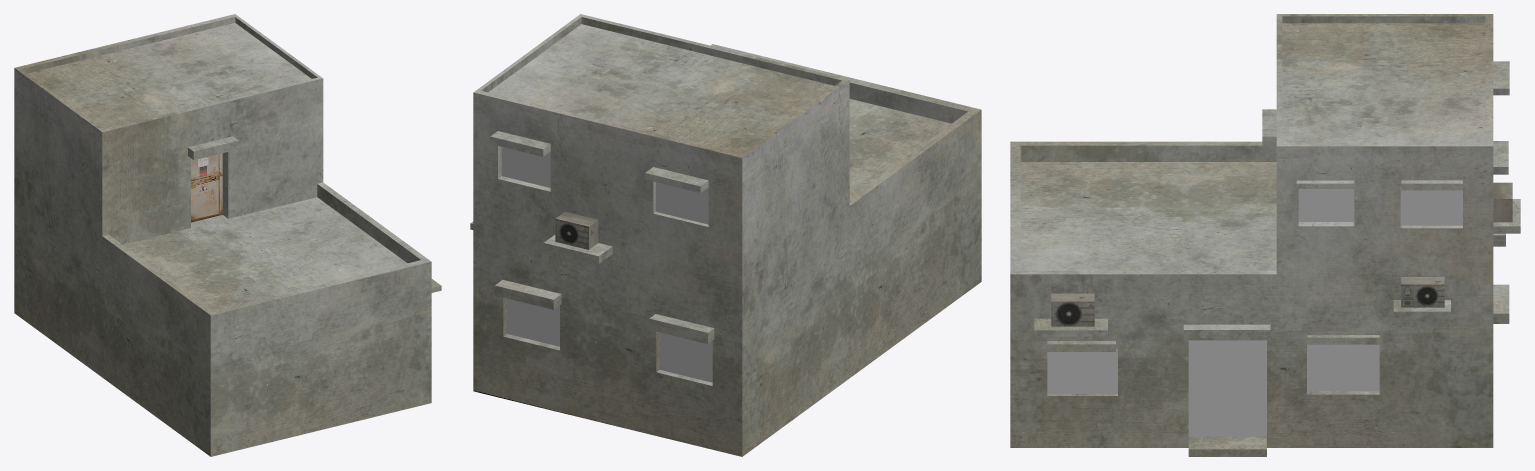
3 views of the same model, side by side, from view 1: azimuth 30°, elevation 25°; view 2: azimuth 150°, elevation 25°; view 3: azimuth 270°, elevation 25° (orthographic). The views are drawn at different scales.
Visible parts, largest first — view 1: Model; view 2: Model; view 3: Model.
Part boxes in pixels (x1=…): Model: x1=14, y1=14, x2=441, y2=456; Model: x1=470, y1=14, x2=981, y2=456; Model: x1=1010, y1=14, x2=1520, y2=456.
Size of the model in its own units: 3271 by 3188 by 4887.
